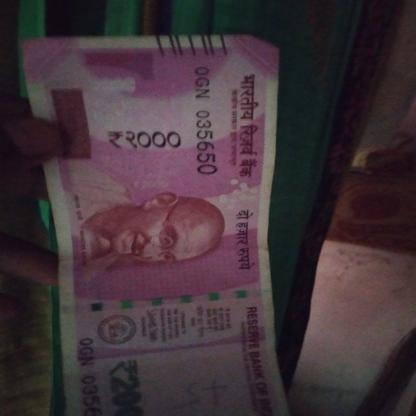New2000Front: (21, 38, 282, 415)
